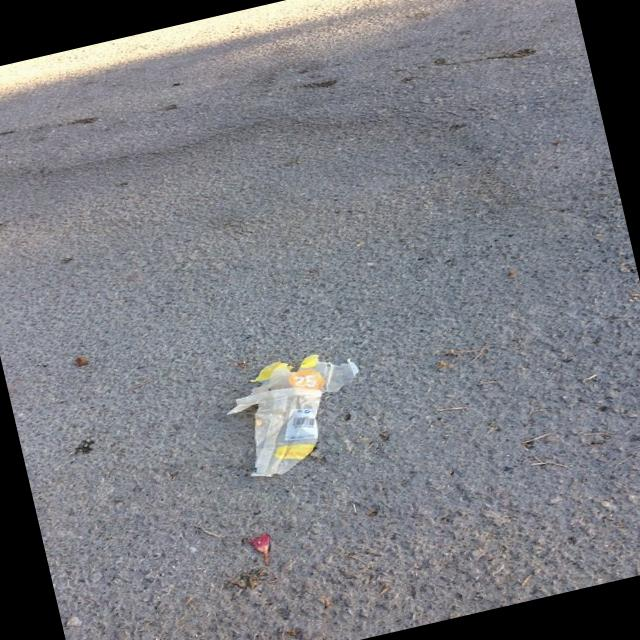Trash: (220, 342, 379, 483)
